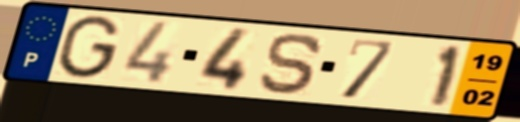1: (426, 43, 463, 109)
4: (196, 25, 252, 93), (120, 20, 176, 86)
7: (340, 37, 398, 102)
G: (53, 14, 124, 81)
S: (256, 31, 328, 97)
